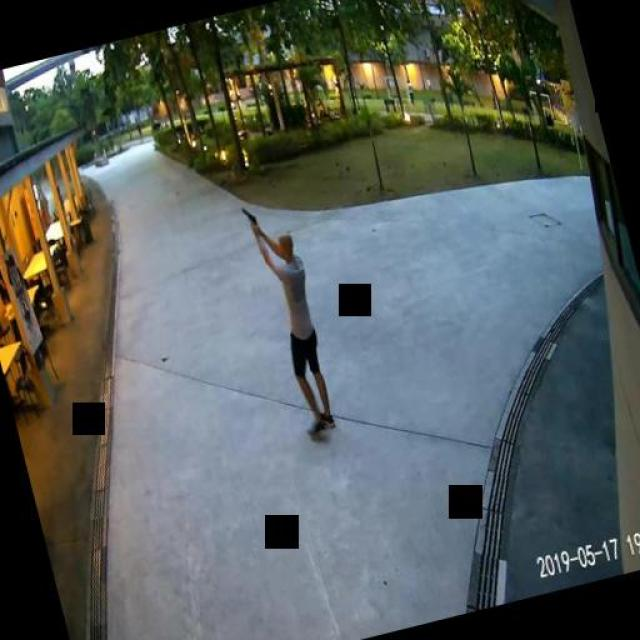gun: (239, 202, 259, 238)
